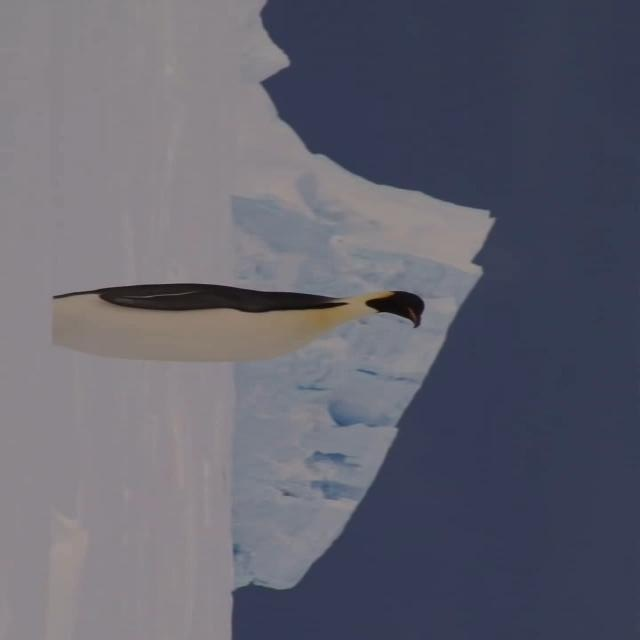penguin: (52, 284, 424, 368)
